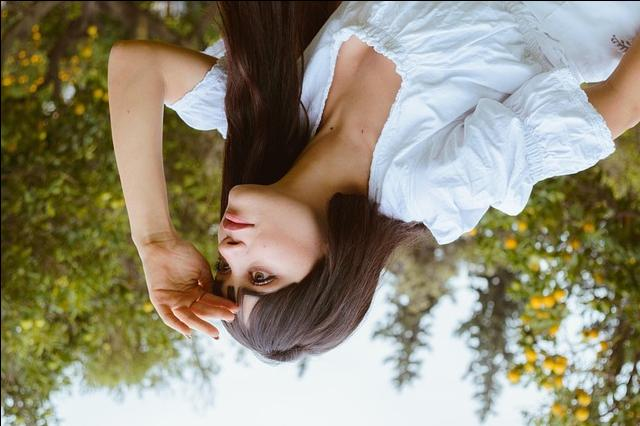Non_Gorille: (48, 0, 640, 412)
